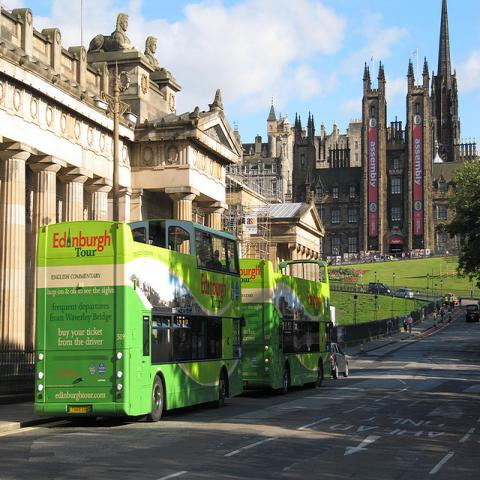bus: (35, 219, 246, 423), (240, 258, 332, 394)
car: (331, 342, 349, 381), (368, 283, 392, 296), (465, 303, 480, 323), (391, 288, 414, 299), (443, 293, 459, 305)
truck: (368, 282, 392, 296)
